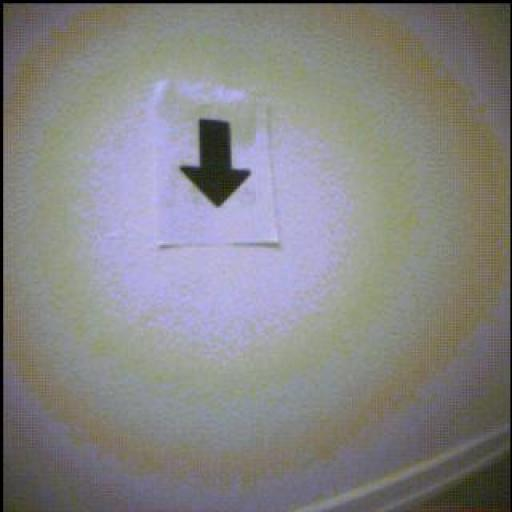arrow: (182, 120, 251, 208)
